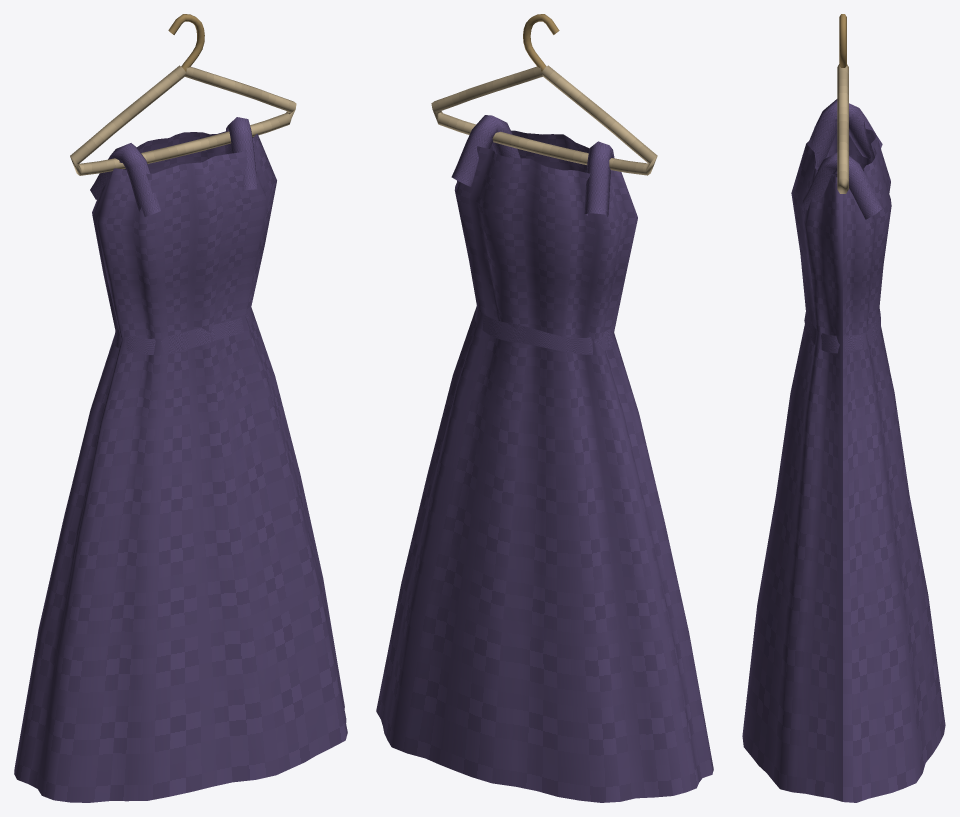
3 views of the same model, side by side, from view 1: azimuth 30°, elevation 25°; view 2: azimuth 150°, elevation 25°; view 3: azimuth 270°, elevation 25° (orthographic). The views are drawn at different scales.
Parts seen in each view (by area): view 1: fabric_iris, ash_grain, aged_brass; view 2: fabric_iris, ash_grain, aged_brass; view 3: fabric_iris, ash_grain, aged_brass.
Boxes of the visible parts, x1,y1,x2,y2 form: fabric_iris: (14, 117, 347, 802); ash_grain: (70, 65, 296, 175); aged_brass: (168, 14, 204, 71); fabric_iris: (376, 115, 713, 802); ash_grain: (431, 65, 657, 175); aged_brass: (523, 14, 559, 71); fabric_iris: (742, 99, 945, 802); ash_grain: (837, 64, 848, 193); aged_brass: (839, 14, 846, 67).
Size of the model in its own units: 0.6695 by 1.46 by 0.3769.
Materials: 3 (2 with a texture image).
